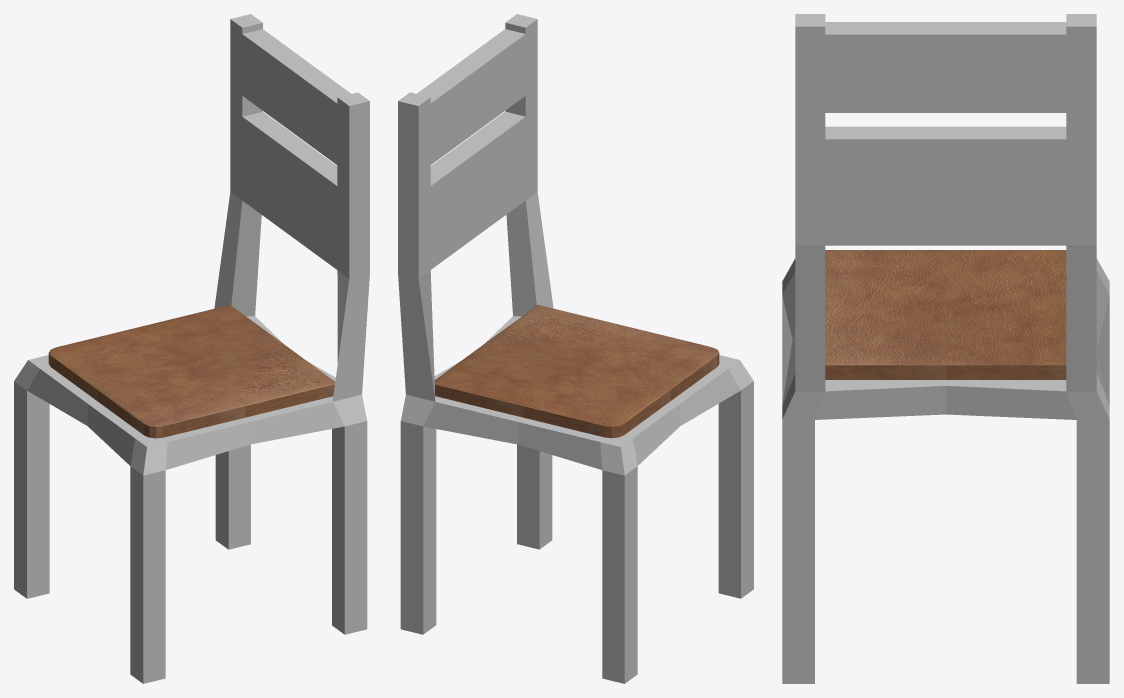
File: DiningChair.fbx
3 renders of one model, left to right at view 1: azimuth 30°, elevation 25°; view 2: azimuth 150°, elevation 25°; view 3: azimuth 270°, elevation 25°, orthographic. The views are drawn at different scales.
Parts seen in each view (by area): view 1: Cube; view 2: Cube; view 3: Cube.
Part boxes in pixels (bbox=[...]): Cube: bbox=[14, 14, 369, 683]; Cube: bbox=[398, 14, 753, 683]; Cube: bbox=[782, 14, 1109, 683].
Size of the model in its own units: 58.23 by 125 by 56.26.
